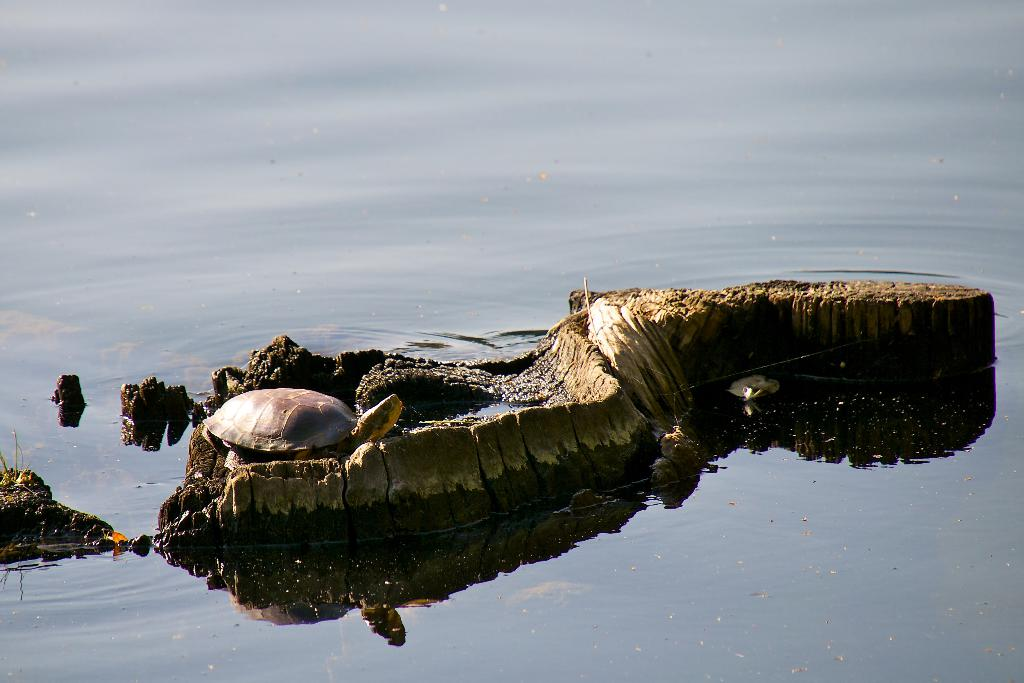Sea turtles: (199, 383, 403, 472)
